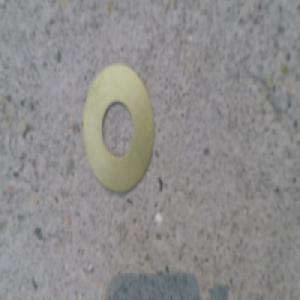Washer: (83, 62, 156, 197)
